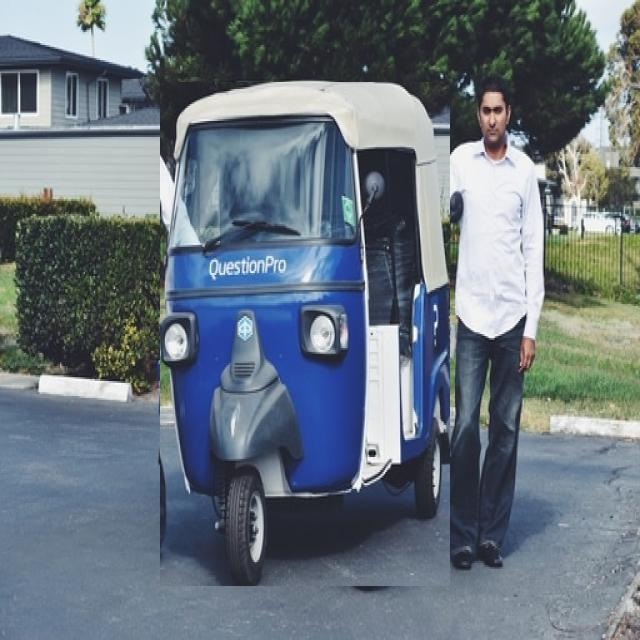autorickshaw: (160, 82, 450, 586)
